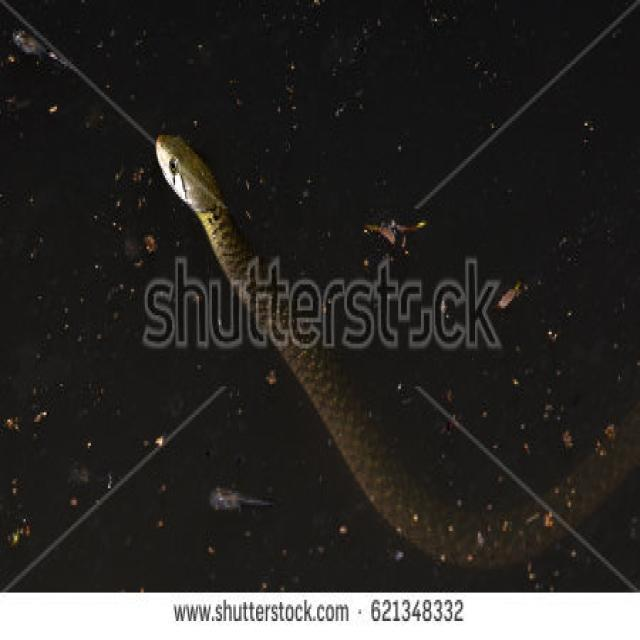Snake: (138, 127, 640, 574)
